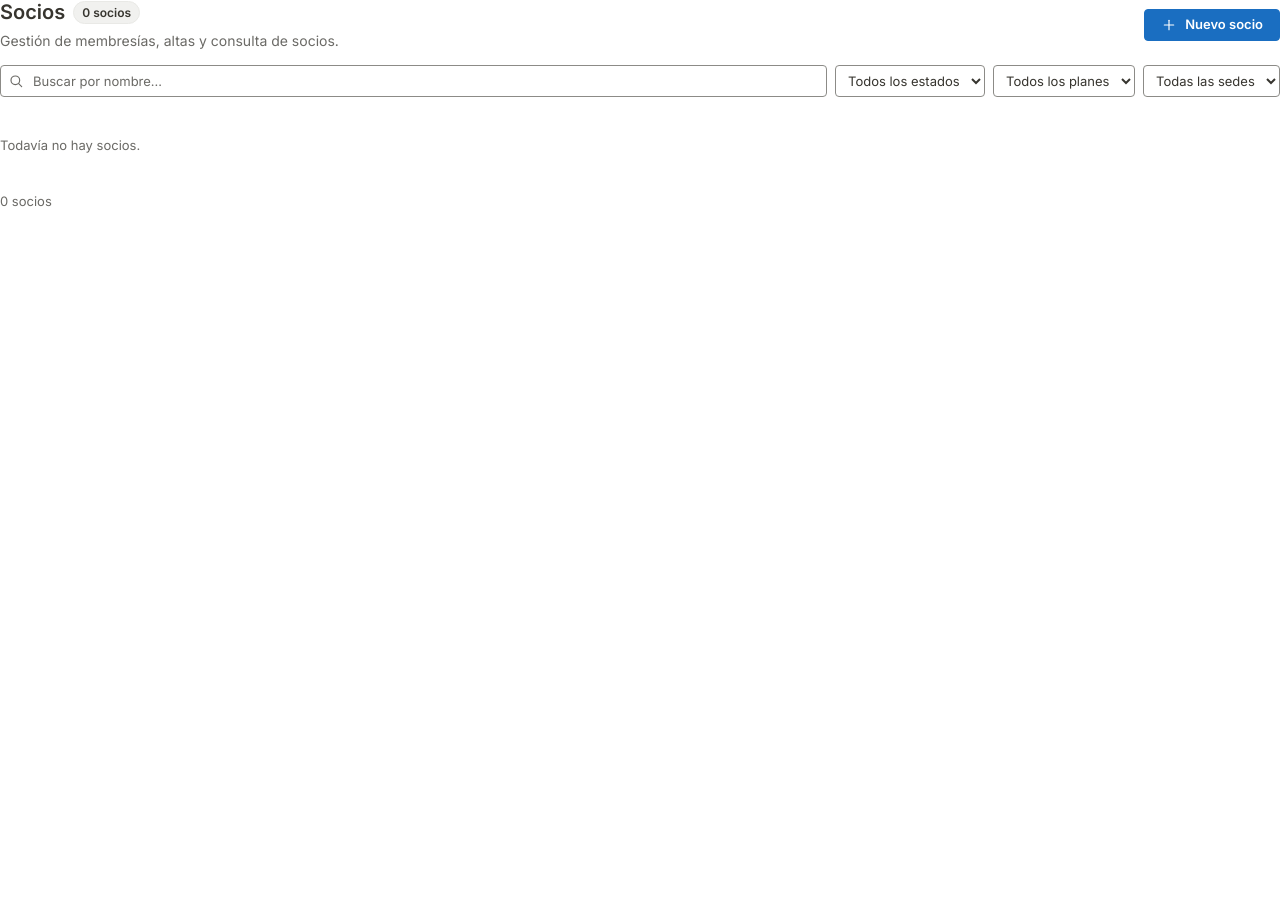
Scenario: GestionSociosPage › "Nuevo socio" abre el modal de alta, en el paso 1 y con "No tiene cuenta" elegido
Click the button "Nuevo socio" at (1212, 24), box [1144,8,1279,40]
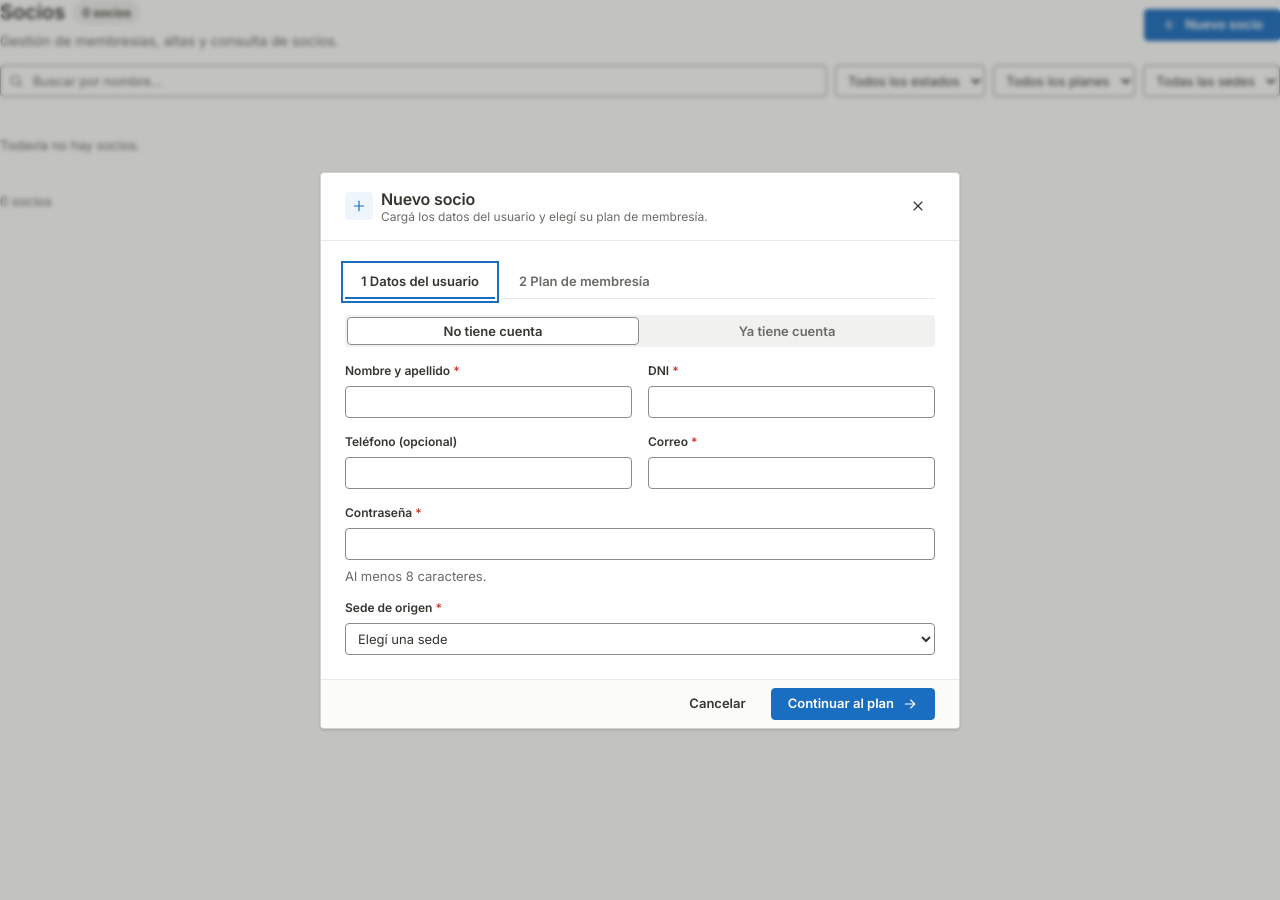
Now the heading "Nuevo socio" is shown, box [381,188,475,208]
Now the tab "1 Datos del usuario" is shown, box [345,264,495,298]
Now the radio button named "modo-usuario" holds "nuevo", box [347,316,639,344]
